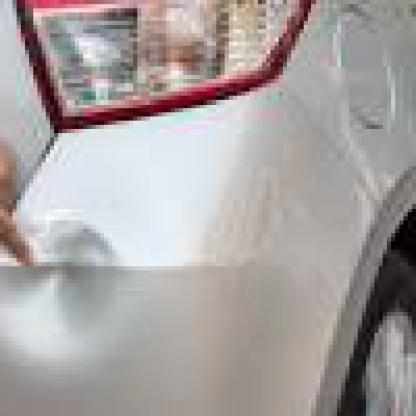dent: (14, 204, 132, 341)
